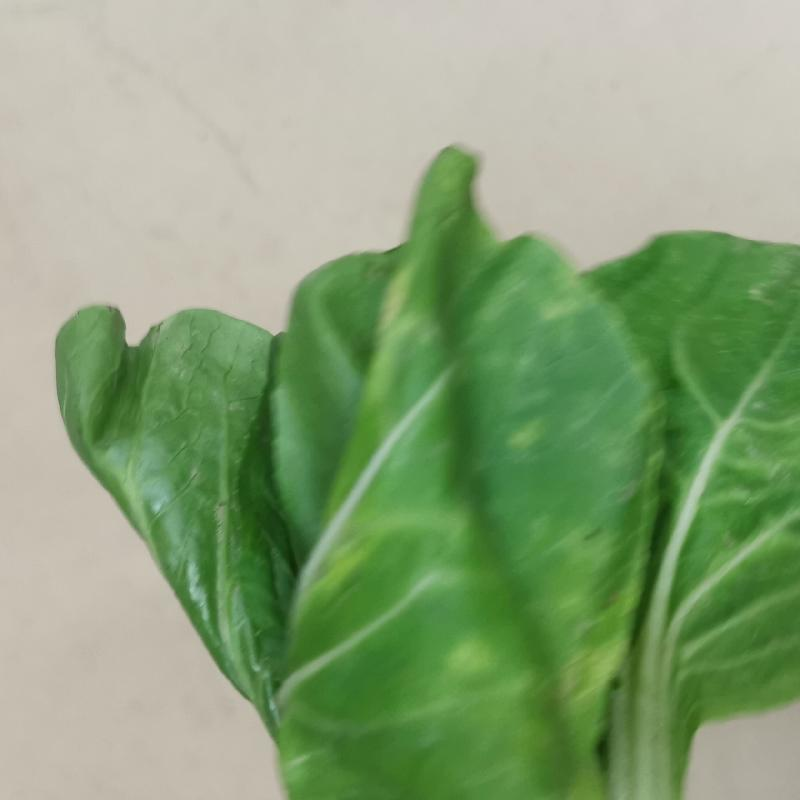green vegatable: (59, 147, 799, 800)
